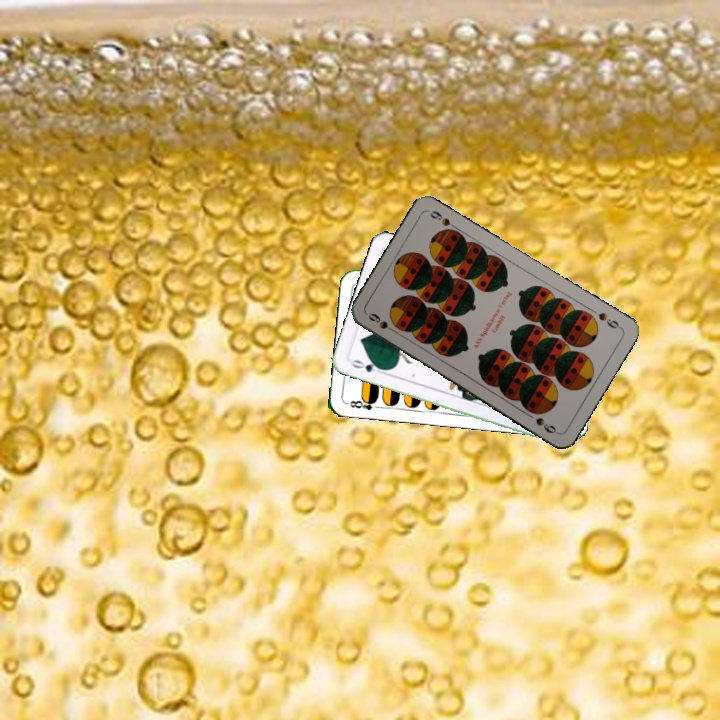E8: (343, 394, 383, 413)
GO: (347, 355, 386, 375)
S9: (364, 309, 400, 336), (594, 308, 624, 331)
